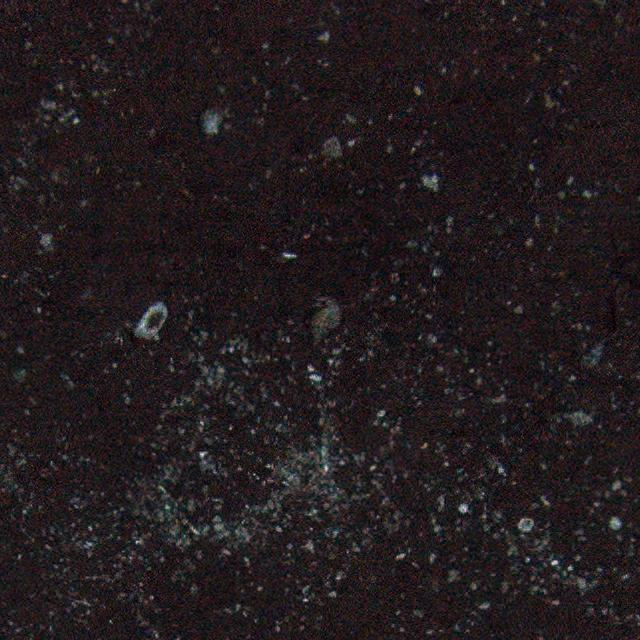whelk: (303, 298, 347, 347)
